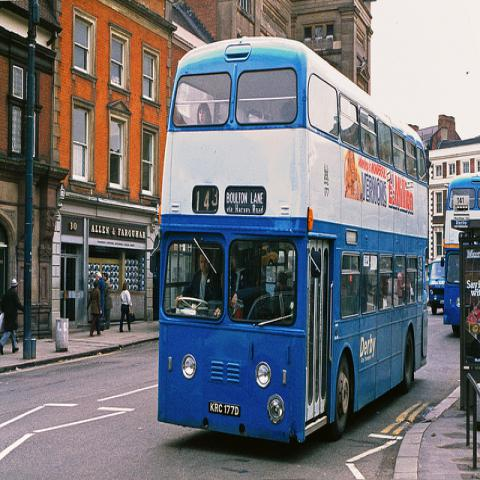bus: (149, 34, 429, 446), (443, 179, 480, 339)
